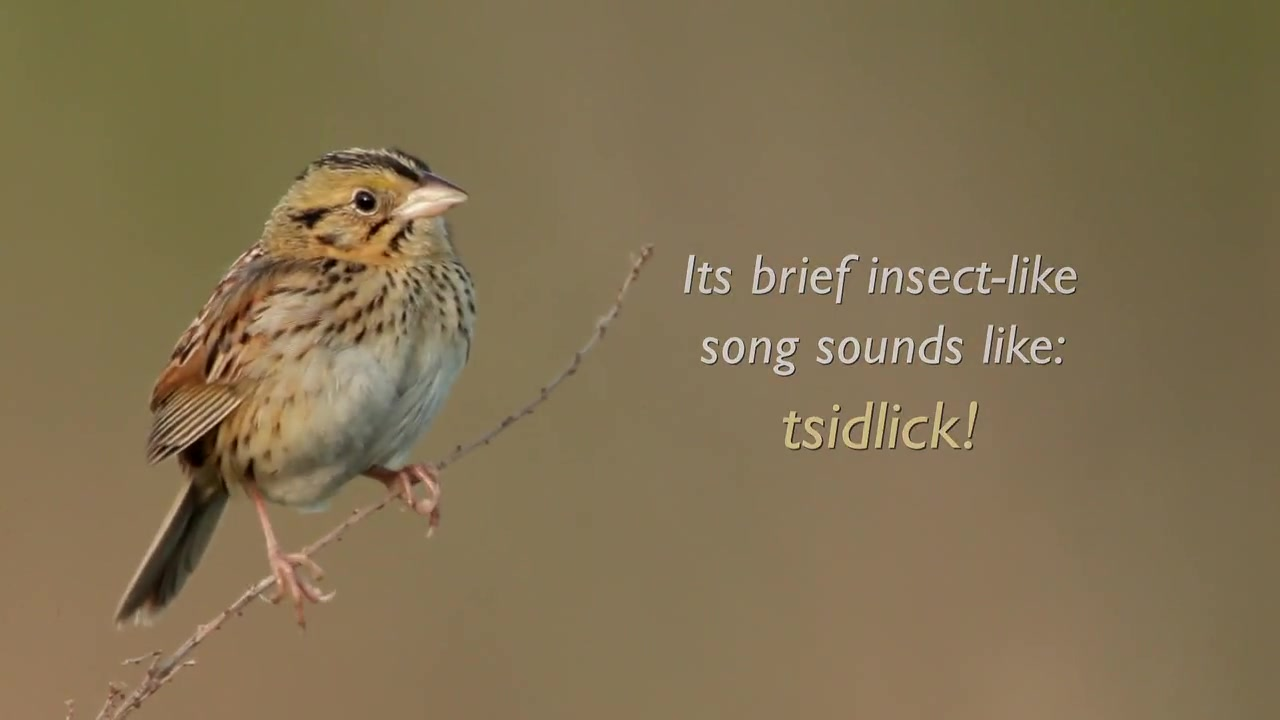bird: (113, 146, 480, 635)
